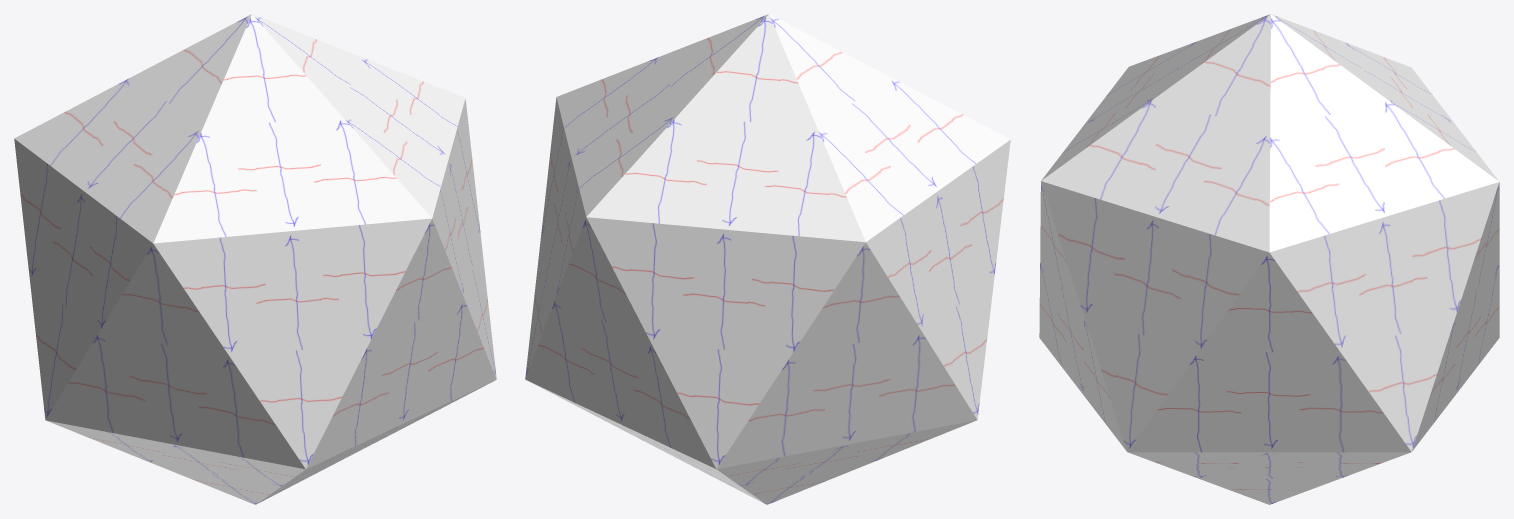
The model's file is ico.glb.
3 renders of one model, left to right at view 1: azimuth 30°, elevation 25°; view 2: azimuth 150°, elevation 25°; view 3: azimuth 270°, elevation 25°, orthographic.
Visible parts, largest first — view 1: 23, 25, 24, 44, 1, 7, 8, 9, 42, 43, 22, 41 (+24 smaller); view 2: 36, 35, 56, 37, 4, 17, 18, 16, 38, 59, 57, 58 (+24 smaller); view 3: 49, 51, 30, 50, 52, 32, 33, 31, 27, 48, 28, 29 (+28 smaller).
Boxes of the visible parts, x1,y1,x2,y2 form: 23: (153, 231, 292, 355); 25: (293, 218, 431, 343); 24: (230, 231, 368, 356); 44: (230, 344, 368, 468); 1: (203, 14, 341, 128); 7: (153, 129, 292, 243); 8: (203, 116, 341, 230); 9: (293, 116, 431, 230); 42: (99, 332, 229, 444); 43: (176, 356, 305, 469); 22: (99, 244, 228, 356); 41: (46, 332, 175, 444); 36: (651, 230, 790, 355); 35: (586, 217, 725, 342); 56: (651, 343, 790, 468); 37: (726, 229, 865, 355); 4: (678, 14, 817, 127); 17: (678, 115, 816, 229); 18: (726, 128, 865, 242); 16: (586, 116, 725, 229); 38: (791, 242, 921, 355); 59: (847, 331, 977, 444); 57: (717, 356, 846, 468); 58: (791, 331, 921, 443); 49: (1127, 352, 1268, 452); 51: (1270, 352, 1411, 452); 30: (1199, 253, 1339, 352); 50: (1198, 352, 1340, 451); 52: (1341, 317, 1455, 451); 32: (1341, 217, 1455, 351); 33: (1384, 182, 1499, 316); 31: (1269, 217, 1384, 351); 27: (1041, 181, 1154, 316); 48: (1084, 317, 1197, 451); 28: (1084, 217, 1197, 351); 29: (1155, 217, 1269, 351).
Bounding box in the file's own units: 1.79 × 2 × 1.7.
1 material, 1 textured.
